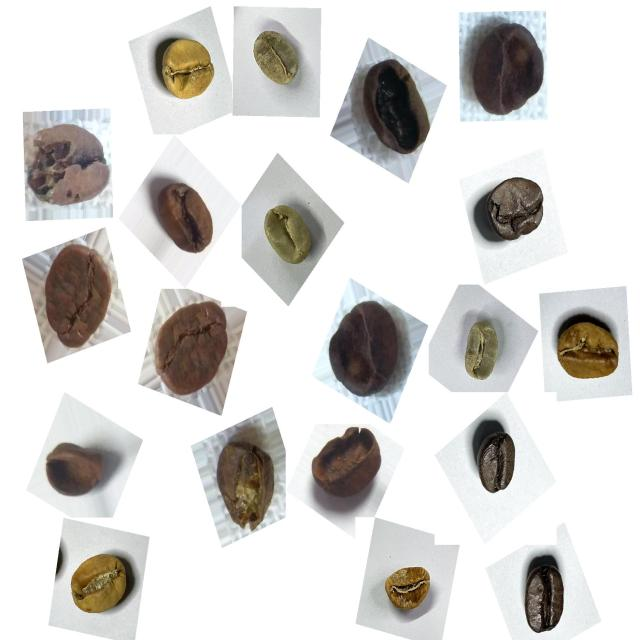bad: (32, 233, 121, 359), (148, 290, 238, 409), (459, 11, 550, 128), (350, 46, 438, 166), (20, 110, 116, 218), (321, 292, 410, 402), (205, 430, 281, 539), (305, 419, 391, 515), (148, 169, 224, 265), (36, 430, 116, 510)
dark: (473, 165, 553, 254), (511, 547, 581, 637), (466, 419, 528, 508)
green: (252, 194, 322, 279), (240, 21, 307, 100), (452, 311, 512, 394)
light: (543, 299, 629, 400), (58, 536, 137, 628), (148, 25, 225, 116), (373, 548, 444, 626)
